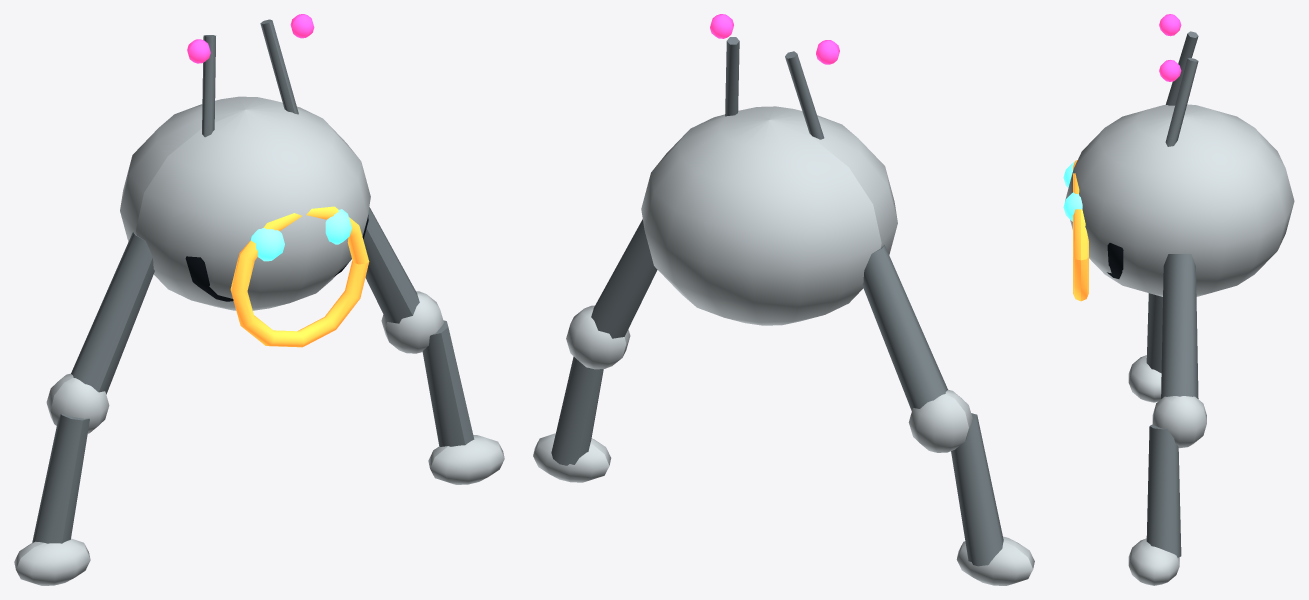
File: SM_BulbRobot.glb
3 renders of one model, left to right at view 1: azimuth 30°, elevation 25°; view 2: azimuth 150°, elevation 25°; view 3: azimuth 270°, elevation 25°, orthographic. The views are drawn at different scales.
Visible parts, largest first — view 1: Robot_Head, Robot_ArmUpper_-1, Robot_Mouth, Robot_ArmLower_-1, Robot_ArmLower_1, Robot_ArmUpper_1, Robot_Hand_-1, Robot_Hand_1, Robot_Joint_-1, Robot_Joint_1, Robot_AntennaR, Robot_AntennaL (+3 smaller); view 2: Robot_Head, Robot_ArmUpper_-1, Robot_ArmLower_-1, Robot_ArmUpper_1, Robot_ArmLower_1, Robot_Joint_-1, Robot_Joint_1, Robot_Hand_-1, Robot_Hand_1, Robot_AntennaL, Robot_AntennaR; view 3: Robot_Head, Robot_ArmUpper_1, Robot_ArmLower_1, Robot_Joint_1, Robot_Hand_1, Robot_Mouth, Robot_ArmLower_-1, Robot_Hand_-1, Robot_AntennaR, Robot_AntennaL, Robot_Face, Robot_AntennaTipL (+2 smaller).
Part boxes in pixels (x1=…): Robot_Head: x1=120, y1=96, x2=370, y2=310; Robot_ArmUpper_-1: x1=71, y1=232, x2=154, y2=394; Robot_Mouth: x1=230, y1=206, x2=369, y2=347; Robot_ArmLower_-1: x1=32, y1=413, x2=89, y2=543; Robot_ArmLower_1: x1=422, y1=320, x2=474, y2=446; Robot_ArmUpper_1: x1=363, y1=207, x2=419, y2=323; Robot_Hand_-1: x1=14, y1=538, x2=90, y2=585; Robot_Hand_1: x1=428, y1=435, x2=504, y2=484; Robot_Joint_-1: x1=46, y1=373, x2=109, y2=433; Robot_Joint_1: x1=381, y1=291, x2=443, y2=353; Robot_AntennaR: x1=260, y1=19, x2=298, y2=114; Robot_AntennaL: x1=202, y1=35, x2=215, y2=137; Robot_Head: x1=641, y1=106, x2=897, y2=325; Robot_ArmUpper_-1: x1=862, y1=245, x2=947, y2=410; Robot_ArmLower_-1: x1=951, y1=413, x2=1003, y2=566; Robot_ArmUpper_1: x1=591, y1=219, x2=657, y2=338; Robot_ArmLower_1: x1=551, y1=356, x2=603, y2=465; Robot_Joint_-1: x1=908, y1=390, x2=972, y2=452; Robot_Joint_1: x1=566, y1=305, x2=630, y2=369; Robot_Hand_-1: x1=956, y1=536, x2=1034, y2=585; Robot_Hand_1: x1=533, y1=433, x2=611, y2=482; Robot_AntennaL: x1=785, y1=51, x2=824, y2=139; Robot_AntennaR: x1=725, y1=37, x2=739, y2=116; Robot_Head: x1=1065, y1=104, x2=1294, y2=296; Robot_ArmUpper_1: x1=1161, y1=254, x2=1198, y2=398; Robot_ArmLower_1: x1=1146, y1=424, x2=1181, y2=557; Robot_Joint_1: x1=1152, y1=396, x2=1206, y2=448; Robot_Hand_1: x1=1128, y1=538, x2=1179, y2=585; Robot_Mouth: x1=1073, y1=160, x2=1088, y2=301; Robot_ArmLower_-1: x1=1146, y1=293, x2=1162, y2=373; Robot_Hand_-1: x1=1128, y1=355, x2=1161, y2=402; Robot_AntennaR: x1=1165, y1=58, x2=1198, y2=146; Robot_AntennaL: x1=1165, y1=31, x2=1198, y2=105; Robot_Face: x1=1107, y1=243, x2=1123, y2=278; Robot_AntennaTipL: x1=1159, y1=14, x2=1181, y2=36.
Bounding box in the file's own units: 1.6 × 1.56 × 0.725.
